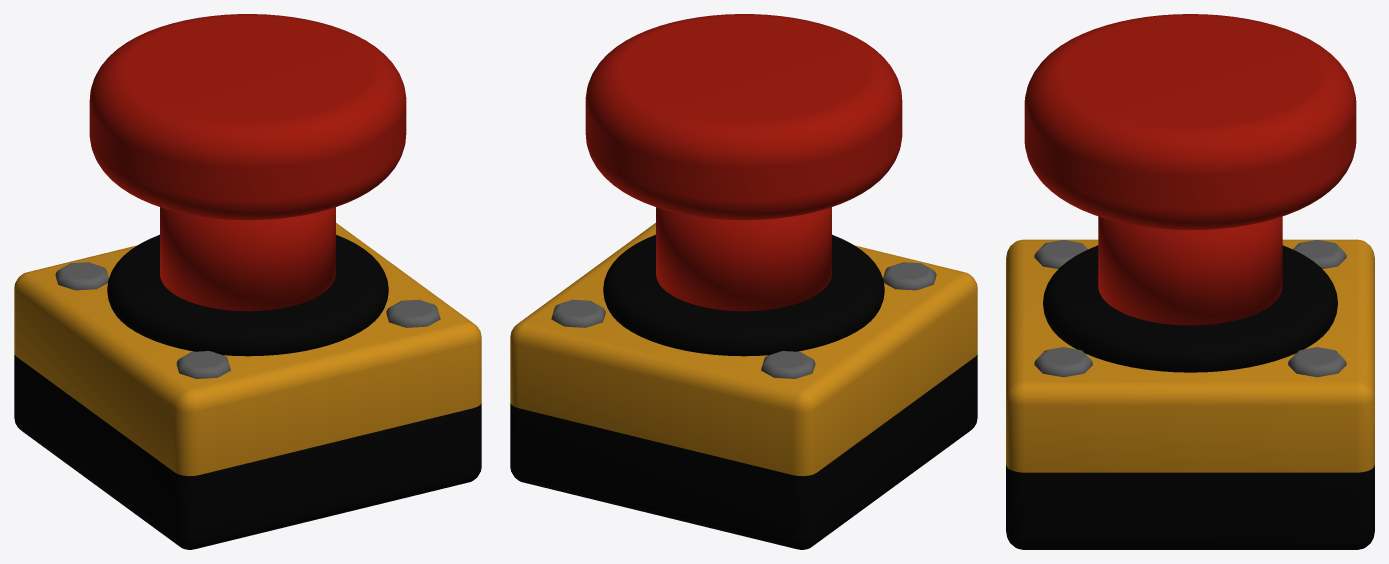
File: Button.fbx
3 views of the same model, side by side, from view 1: azimuth 30°, elevation 25°; view 2: azimuth 150°, elevation 25°; view 3: azimuth 270°, elevation 25° (orthographic). The views are drawn at different scales.
Parts seen in each view (by area): view 1: Button head 2, Box Base 2, ChamferBox001, Button base 2, Button shaft 2, Button Rivets 2; view 2: Button head 2, Box Base 2, ChamferBox001, Button base 2, Button shaft 2, Button Rivets 2; view 3: Button head 2, Box Base 2, ChamferBox001, Button base 2, Button shaft 2, Button Rivets 2.
Boxes of the visible parts, x1,y1,x2,y2 form: Button head 2: (89,14,406,220); Box Base 2: (14,223,481,475); ChamferBox001: (14,354,481,549); Button base 2: (107,234,388,356); Button shaft 2: (160,207,335,311); Button Rivets 2: (55,262,440,378); Button head 2: (585,14,902,220); Box Base 2: (510,223,977,475); ChamferBox001: (510,354,977,549); Button base 2: (603,234,884,356); Button shaft 2: (656,207,831,311); Button Rivets 2: (551,262,936,378); Button head 2: (1024,14,1356,230); Box Base 2: (1006,239,1374,472); ChamferBox001: (1006,465,1374,549); Button base 2: (1043,245,1337,372); Button shaft 2: (1098,216,1282,325); Button Rivets 2: (1034,240,1346,377).
Size of the model in its own units: 19.69 by 23.93 by 19.69.
